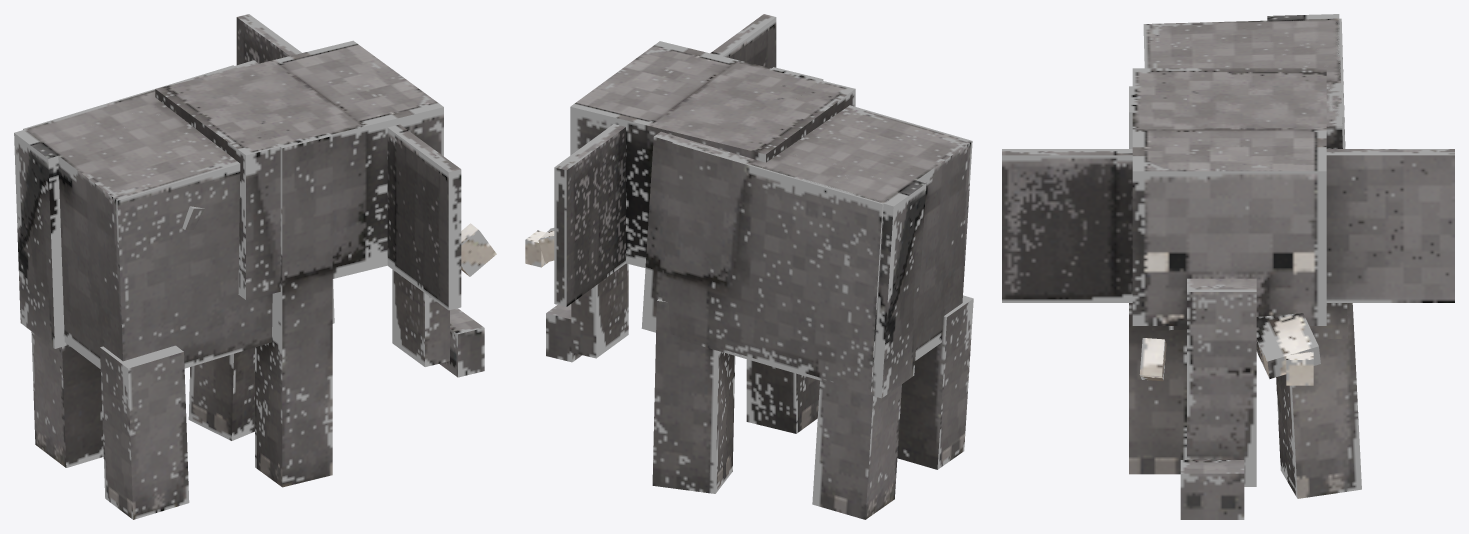
The picture shows the model from 3 angles, left to right: view 1: azimuth 30°, elevation 25°; view 2: azimuth 150°, elevation 25°; view 3: azimuth 270°, elevation 25°; orthographic projection. The views are drawn at different scales.
Visible parts, largest first — view 1: cuboid_01, cuboid_02, cuboid_04, cuboid_10, cuboid_07, cuboid_05, cuboid_06, cuboid_03, cuboid_08, cuboid_09, cuboid_11; view 2: cuboid_01, cuboid_02, cuboid_10, cuboid_05, cuboid_03, cuboid_06, cuboid_07, cuboid_04, cuboid_08, cuboid_09, cuboid_13; view 3: cuboid_02, cuboid_05, cuboid_08, cuboid_03, cuboid_01, cuboid_04, cuboid_10, cuboid_09, cuboid_12, cuboid_11, cuboid_13.
Boxes of the visible parts, x1=… form: cuboid_01: x1=23, y1=65, x2=334, y2=368; cuboid_02: x1=155, y1=40, x2=443, y2=299; cuboid_04: x1=255, y1=116, x2=332, y2=487; cuboid_10: x1=14, y1=60, x2=258, y2=348; cuboid_07: x1=100, y1=345, x2=189, y2=519; cuboid_05: x1=236, y1=14, x2=461, y2=310; cuboid_06: x1=31, y1=331, x2=103, y2=467; cuboid_03: x1=188, y1=347, x2=254, y2=440; cuboid_08: x1=392, y1=269, x2=449, y2=366; cuboid_09: x1=439, y1=308, x2=484, y2=377; cuboid_11: x1=461, y1=223, x2=496, y2=276; cuboid_01: x1=662, y1=105, x2=972, y2=392; cuboid_02: x1=570, y1=41, x2=855, y2=267; cuboid_10: x1=641, y1=131, x2=926, y2=398; cuboid_05: x1=554, y1=14, x2=776, y2=306; cuboid_03: x1=652, y1=299, x2=735, y2=493; cuboid_06: x1=812, y1=380, x2=901, y2=519; cuboid_07: x1=897, y1=295, x2=973, y2=469; cuboid_04: x1=746, y1=67, x2=823, y2=433; cuboid_08: x1=571, y1=263, x2=628, y2=358; cuboid_09: x1=546, y1=304, x2=581, y2=362; cuboid_13: x1=525, y1=230, x2=548, y2=267; cuboid_02: x1=1132, y1=68, x2=1326, y2=325; cuboid_05: x1=1002, y1=149, x2=1454, y2=302; cuboid_08: x1=1187, y1=278, x2=1256, y2=486; cuboid_03: x1=1276, y1=303, x2=1361, y2=498; cuboid_01: x1=1143, y1=18, x2=1345, y2=330; cuboid_04: x1=1129, y1=86, x2=1186, y2=474; cuboid_10: x1=1267, y1=14, x2=1347, y2=339; cuboid_09: x1=1180, y1=460, x2=1244, y2=519; cuboid_12: x1=1256, y1=313, x2=1320, y2=378; cuboid_11: x1=1139, y1=338, x2=1166, y2=381; cuboid_13: x1=1286, y1=351, x2=1313, y2=385.
Bounding box in the file's own units: 0.9845 × 0.831 × 0.9126.
1 material, 1 textured.
